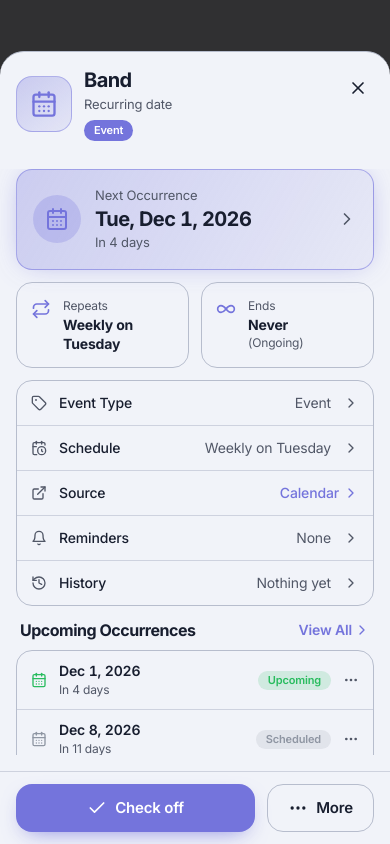
it: End series is offered only where it can be stored (O4) › not while the next date is the series' first
Click the button with test id "cal-action-more": (321, 808) x1=267 y1=784 x2=374 y2=832
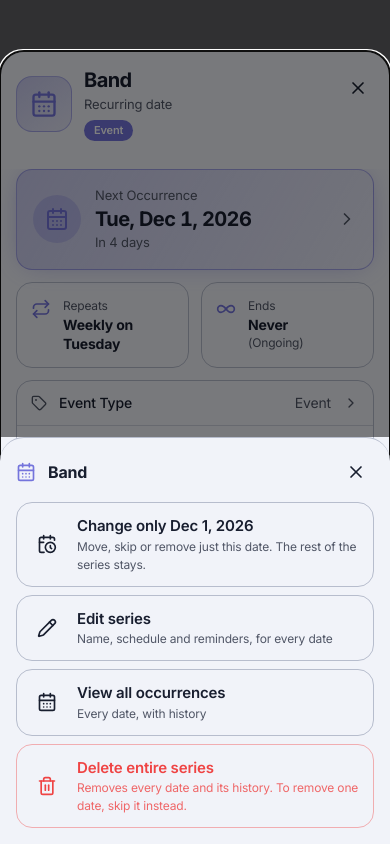
Expected: the button with test id "cal-action-deleteSeries" is shown, x1=16 y1=744 x2=374 y2=828
